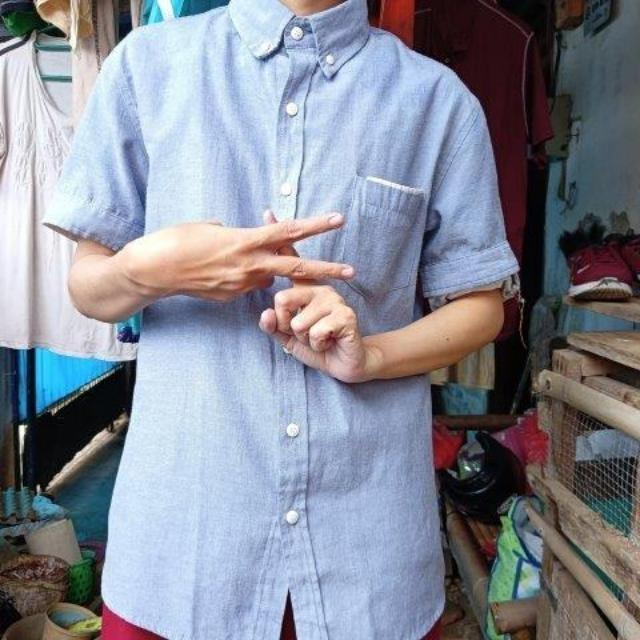F: (210, 204, 374, 373)
